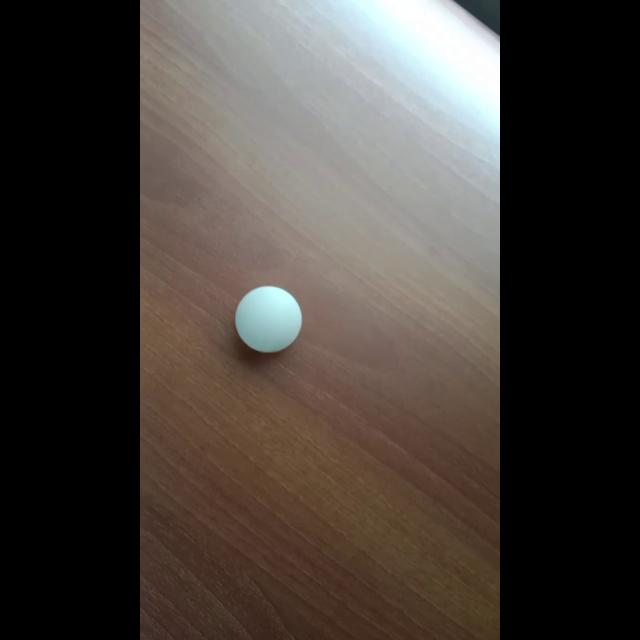white ball: (234, 285, 302, 353)
